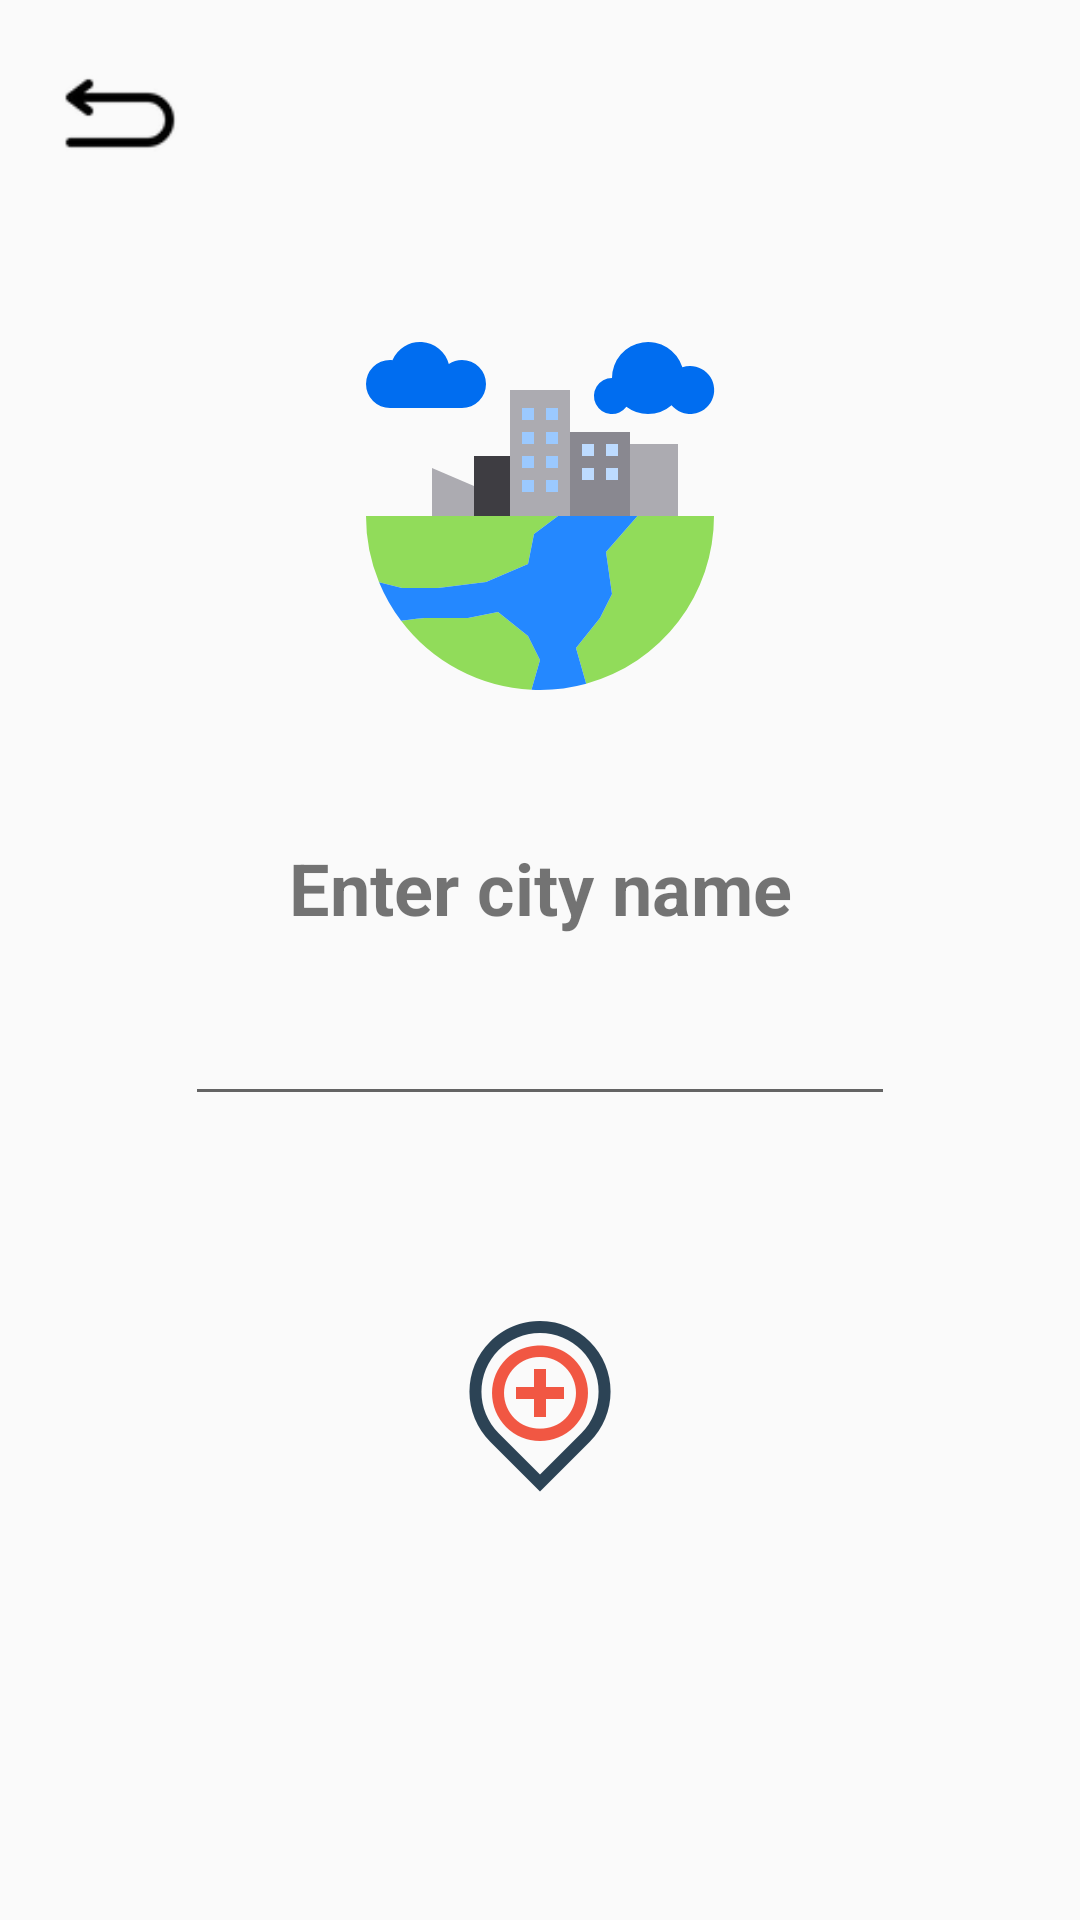

Locate icon controls on the screen. Image size 1080px×1920px, boxes as bbox=(x1, y1, x2, y2).
add: bbox=(469, 1321, 611, 1492)
back: bbox=(65, 79, 175, 148)
